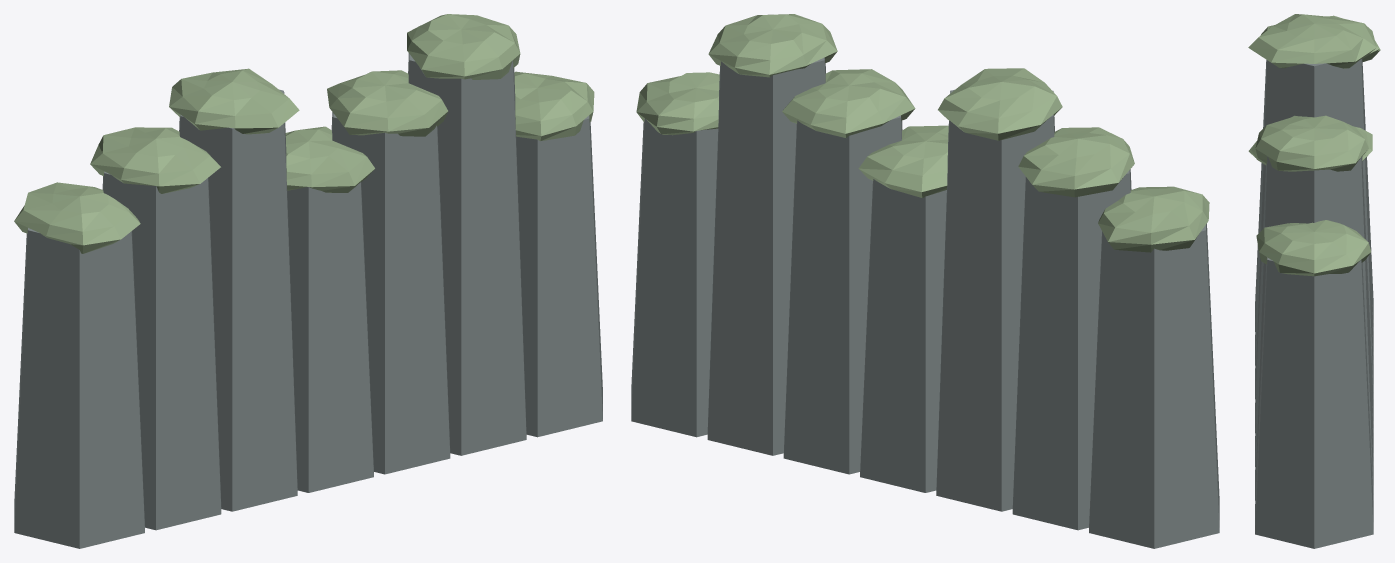
The model's file is cliff_basalt.glb.
The picture shows the model from 3 angles, left to right: view 1: azimuth 30°, elevation 25°; view 2: azimuth 150°, elevation 25°; view 3: azimuth 270°, elevation 25°; orthographic projection. The views are drawn at different scales.
Visible parts, largest first — view 1: columnar-cliff; view 2: columnar-cliff; view 3: columnar-cliff.
Part boxes in pixels (left/top/right/bottom): columnar-cliff: left=14, top=14, right=602, bottom=548; columnar-cliff: left=631, top=14, right=1219, bottom=548; columnar-cliff: left=1248, top=14, right=1380, bottom=548.
Size of the model in its own units: 4.32 by 2.79 by 0.9284.
